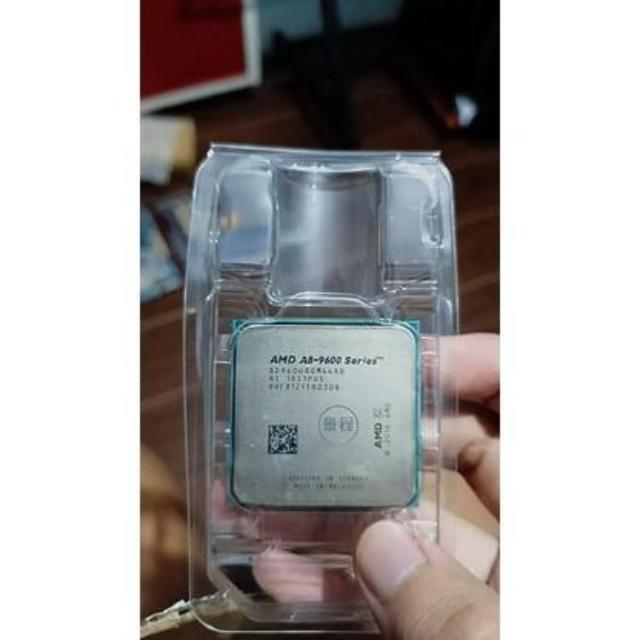CPU: (231, 322, 417, 510)
